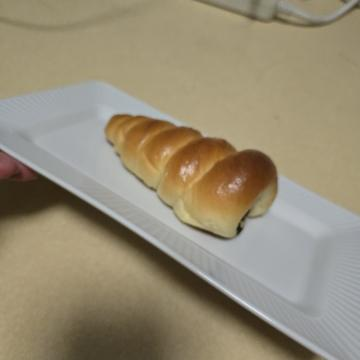cream horn: (89, 64, 253, 270)
